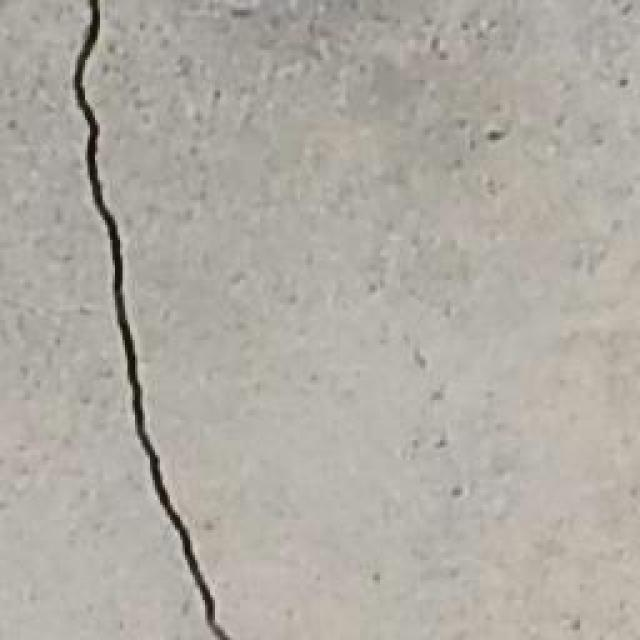concrete-crack: (72, 0, 232, 640)
